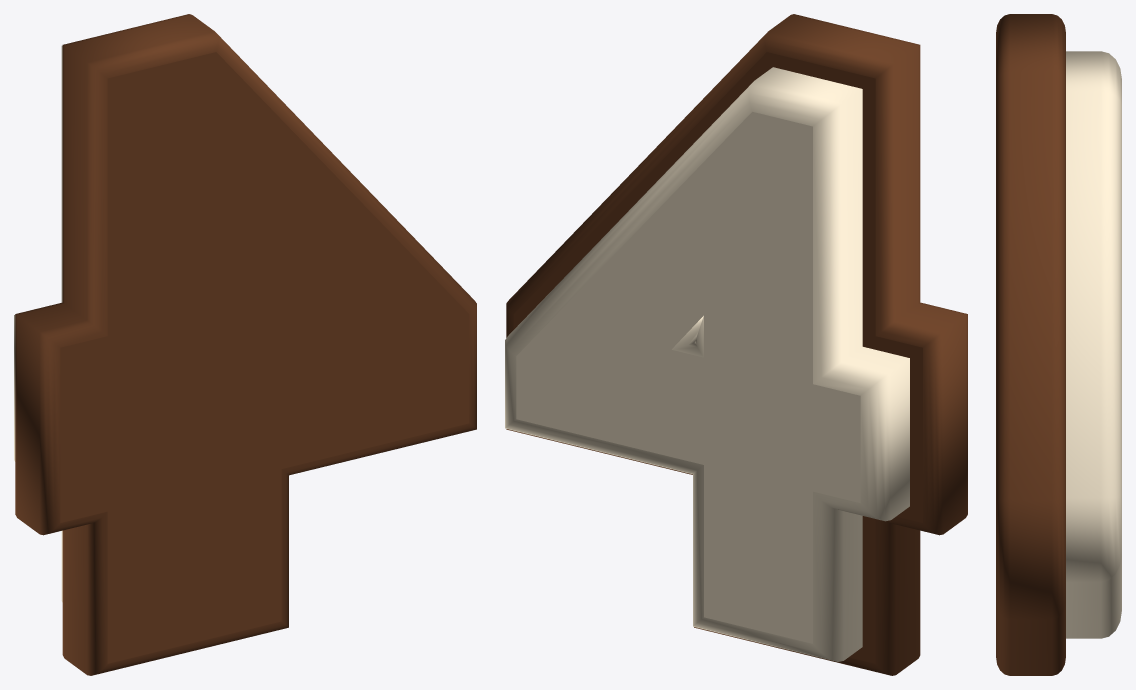
Rendered from Digit_4.fbx.
3 renders of one model, left to right at view 1: azimuth 30°, elevation 25°; view 2: azimuth 150°, elevation 25°; view 3: azimuth 270°, elevation 25°, orthographic. The views are drawn at different scales.
Parts seen in each view (by area): view 1: Digit_4; view 2: Digit_4; view 3: Digit_4.
Part boxes in pixels (x1=…): Digit_4: x1=14, y1=14, x2=476, y2=675; Digit_4: x1=505, y1=14, x2=967, y2=675; Digit_4: x1=996, y1=14, x2=1121, y2=675.
Bounding box in the file's own units: 0.67 × 0.901 × 0.18.
Materials: 1 (1 with a texture image).
